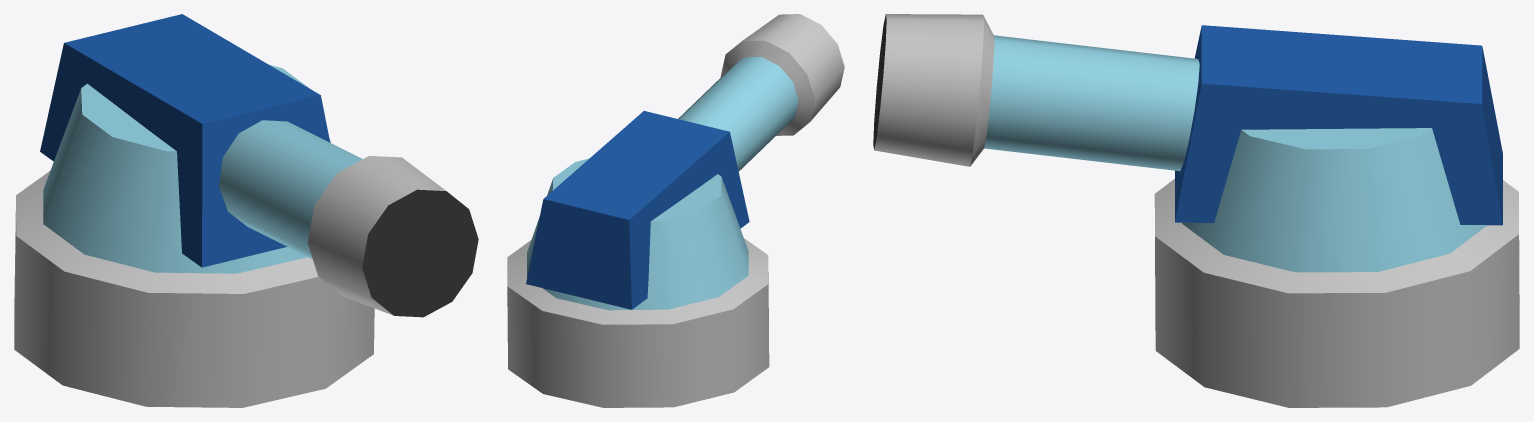
The model's file is Export_Turret.FBX.
3 renders of one model, left to right at view 1: azimuth 30°, elevation 25°; view 2: azimuth 150°, elevation 25°; view 3: azimuth 270°, elevation 25°, orthographic. The views are drawn at different scales.
Visible parts, largest first — view 1: Hero_Car_Canon_004, Hero_Car_Canon_002, Hero_Car_Canon_003; view 2: Hero_Car_Canon_004, Hero_Car_Canon_003, Hero_Car_Canon_002; view 3: Hero_Car_Canon_004, Hero_Car_Canon_002, Hero_Car_Canon_003.
Part boxes in pixels (bbox=[...]): Hero_Car_Canon_004: bbox=[14, 64, 374, 407]; Hero_Car_Canon_002: bbox=[219, 120, 478, 317]; Hero_Car_Canon_003: bbox=[40, 14, 330, 267]; Hero_Car_Canon_004: bbox=[507, 158, 769, 407]; Hero_Car_Canon_003: bbox=[526, 111, 749, 309]; Hero_Car_Canon_002: bbox=[678, 14, 844, 171]; Hero_Car_Canon_004: bbox=[1154, 128, 1519, 407]; Hero_Car_Canon_002: bbox=[873, 14, 1199, 171]; Hero_Car_Canon_003: bbox=[1175, 25, 1502, 225].
Bounding box in the file's own units: 3.2 × 3 × 5.65.
